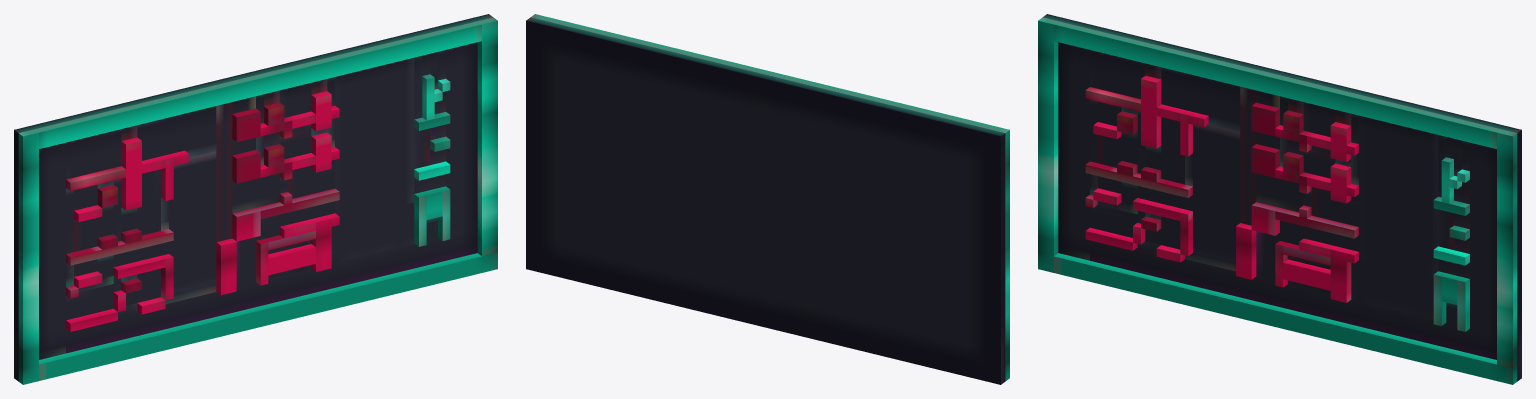
Rendered from Billboard_Chinese1_00.fbx.
The picture shows the model from 3 angles, left to right: view 1: azimuth 30°, elevation 25°; view 2: azimuth 150°, elevation 25°; view 3: azimuth 330°, elevation 25°; orthographic projection.
Parts seen in each view (by area): view 1: Billboard_Chinese1_00; view 2: Billboard_Chinese1_00; view 3: Billboard_Chinese1_00.
Part boxes in pixels (box(x1,y1,x2,y2)): Billboard_Chinese1_00: box(14, 14, 497, 384); Billboard_Chinese1_00: box(526, 14, 1009, 384); Billboard_Chinese1_00: box(1038, 14, 1521, 384).
Size of the model in its own units: 300 by 150 by 10.
